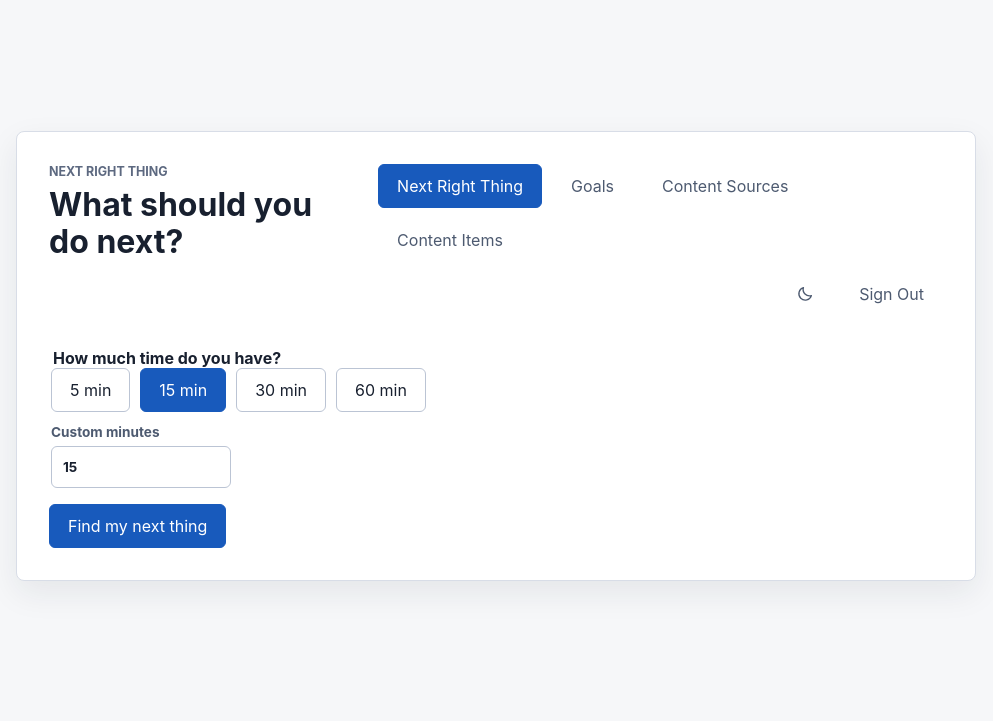
Test: RecommendationsPage › prevents duplicate concurrent recommendation requests
The width and height of the screenshot is (993, 721).
Double-click the button "Find my next thing": (138, 526) [49, 504, 226, 548]
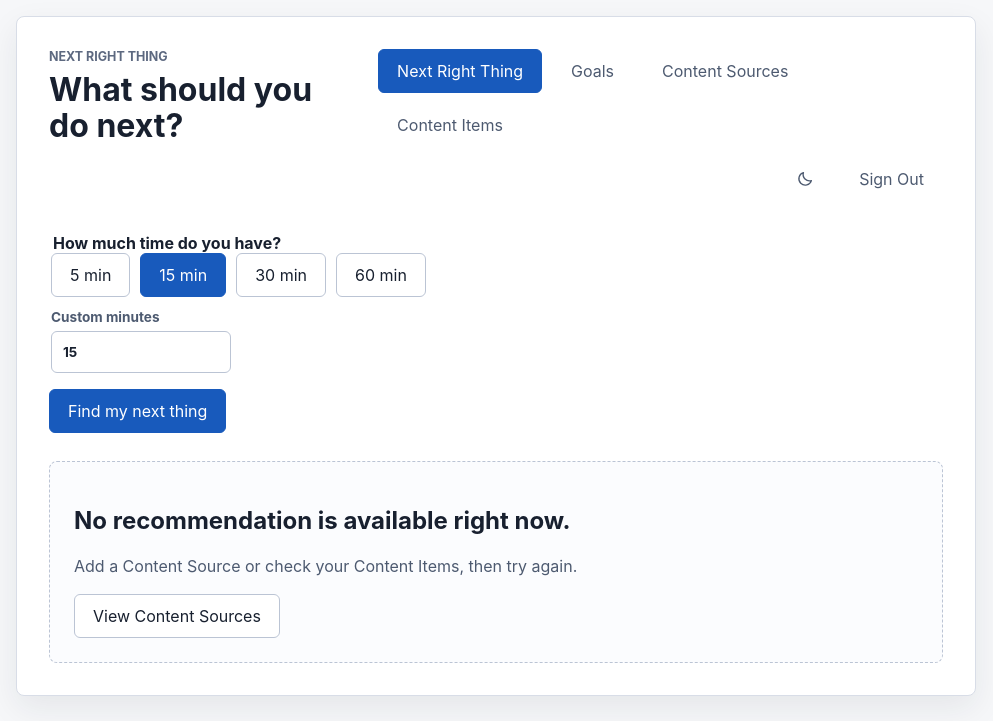
Check: the heading "No recommendation is available right now." is shown, box [74, 506, 570, 534]
